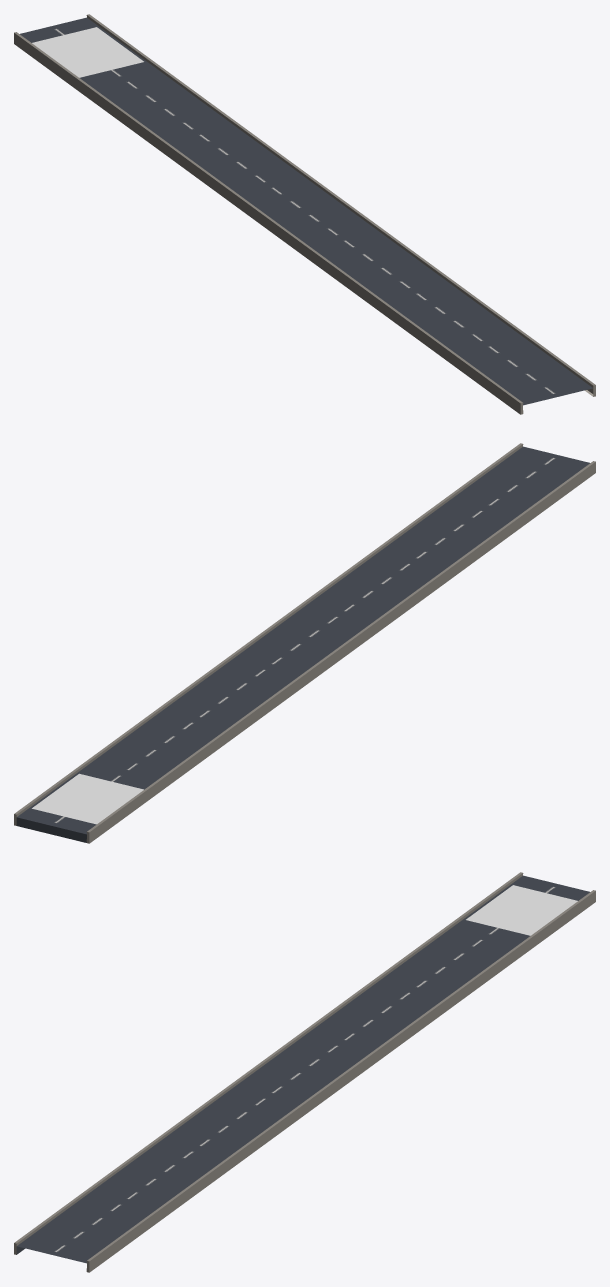
The model's file is road.fbx.
The picture shows the model from 3 angles, top to bottom: view 1: azimuth 30°, elevation 25°; view 2: azimuth 150°, elevation 25°; view 3: azimuth 330°, elevation 25°; orthographic projection.
Parts seen in each view (by area): view 1: Road_011, Road_010, Road_009, Road_006, Road_008, Road_007, Road_5, Plane001; view 2: Road_011, Road_009, Road_008, Road_006, Road_007, Road_010, Road_5, Plane001; view 3: Road_011, Road_010, Road_009, Road_008, Road_006, Road_007, Road_5, Plane001.
Boxes of the visible parts, <box> form: Road_011: <box>448,332,595,414</box>; Road_010: <box>375,279,522,361</box>; Road_009: <box>303,226,450,308</box>; Road_006: <box>86,67,233,149</box>; Road_008: <box>231,173,378,255</box>; Road_007: <box>159,120,306,202</box>; Road_5: <box>14,14,161,96</box>; Plane001: <box>32,27,143,77</box>; Road_011: <box>448,443,595,525</box>; Road_009: <box>304,549,451,631</box>; Road_008: <box>231,602,378,684</box>; Road_006: <box>87,708,234,790</box>; Road_007: <box>159,655,306,737</box>; Road_010: <box>376,496,523,578</box>; Road_5: <box>14,761,161,843</box>; Plane001: <box>32,773,143,824</box>; Road_011: <box>14,1190,161,1272</box>; Road_010: <box>87,1137,234,1219</box>; Road_009: <box>159,1084,306,1166</box>; Road_008: <box>231,1031,378,1113</box>; Road_006: <box>376,925,523,1007</box>; Road_007: <box>303,978,450,1060</box>; Road_5: <box>448,872,595,954</box>; Plane001: <box>466,885,577,935</box>.
Bounding box in the file's own units: 300 × 43.24 × 3488.
1 material, 1 textured.
